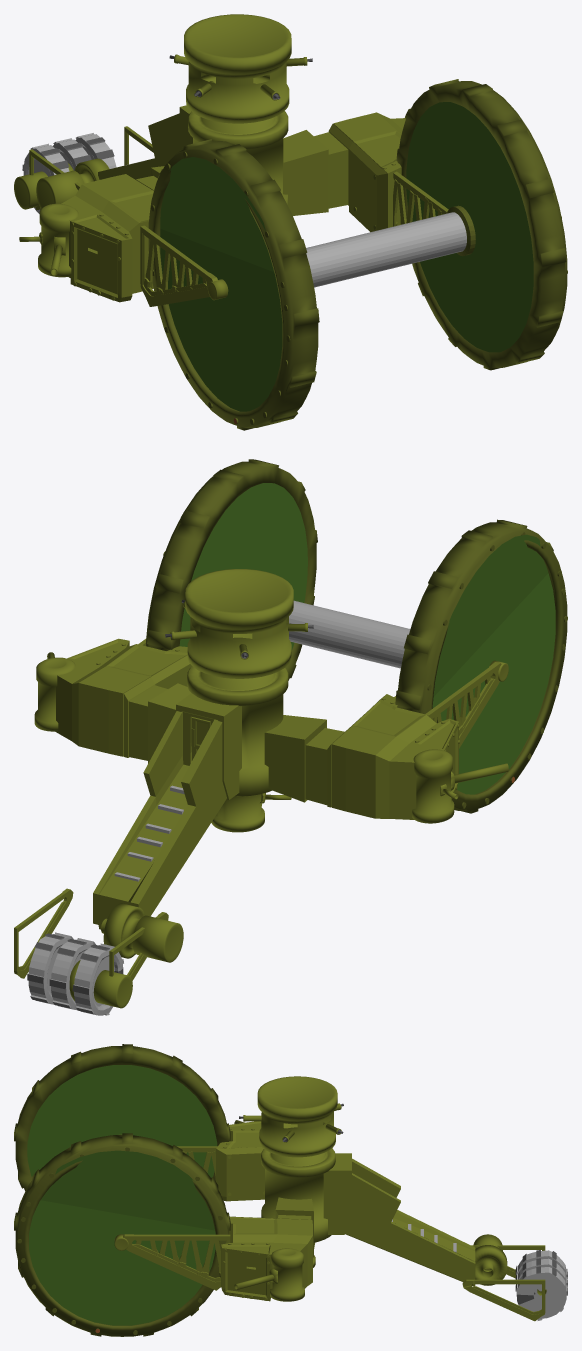
Rendered from TsarTAnk.glb.
3 renders of one model, top to bottom at view 1: azimuth 30°, elevation 25°; view 2: azimuth 150°, elevation 25°; view 3: azimuth 270°, elevation 25°, orthographic. The views are drawn at different scales.
Visible parts, largest first — view 1: Circle.009, Circle, Circle.005, Circle.002, RightSide.001, Mainturret, RightSide, Circle.003, Cylinder.004, Hull, Cube, Stairway (+7 smaller); view 2: RightSide, Stairway, RightSide.001, Circle, Circle.002, Mainturret, Circle.005, Circle.009, Circle.003, Hull, Cylinder.004, DriveSproket (+11 smaller); view 3: Circle.008, Circle.001, Circle.005, Circle.007, Stairway, RightSide.001, Circle, Mainturret, Hull, RightSide, Cube.019, Cube.028 (+6 smaller).
Boxes of the visible parts, x1,y1,x2,y2 form: Circle.009: (406, 102, 533, 352); Circle: (148, 139, 319, 430); Circle.005: (396, 79, 567, 370); Circle.002: (160, 228, 282, 411); RightSide.001: (283, 112, 405, 232); Mainturret: (184, 14, 291, 123); RightSide: (61, 166, 164, 302); Circle.003: (160, 157, 273, 271); Cylinder.004: (306, 205, 475, 287); Hull: (188, 83, 288, 205); Cube: (140, 225, 217, 306); Stairway: (98, 113, 179, 179); RightSide: (264, 694, 459, 819); Stairway: (93, 711, 226, 929); RightSide.001: (55, 638, 191, 763); Circle: (395, 519, 567, 813); Circle.002: (432, 573, 555, 794); Mainturret: (185, 569, 293, 678); Circle.005: (146, 459, 317, 680); Circle.009: (179, 483, 307, 650); Circle.003: (433, 534, 548, 696); Hull: (187, 637, 288, 796); Cylinder.004: (289, 600, 410, 668); DriveSproket: (101, 903, 183, 962); Circle.008: (29, 1200, 215, 1325); Circle.001: (27, 1065, 217, 1177); Circle.005: (14, 1133, 230, 1336); Circle.007: (41, 1150, 214, 1230); Stairway: (345, 1158, 475, 1286); RightSide.001: (221, 1197, 313, 1301); Circle: (14, 1044, 230, 1190); Mainturret: (257, 1076, 337, 1157); Hull: (261, 1127, 335, 1242); RightSide: (216, 1121, 264, 1201); Cube.019: (323, 1153, 351, 1234); Cube.028: (123, 1234, 230, 1290).
Bounding box in the file's own units: 20.86 × 12.83 × 29.45.
